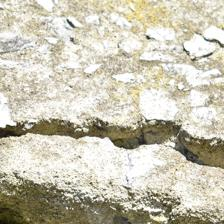Crack: (2, 59, 222, 115)
